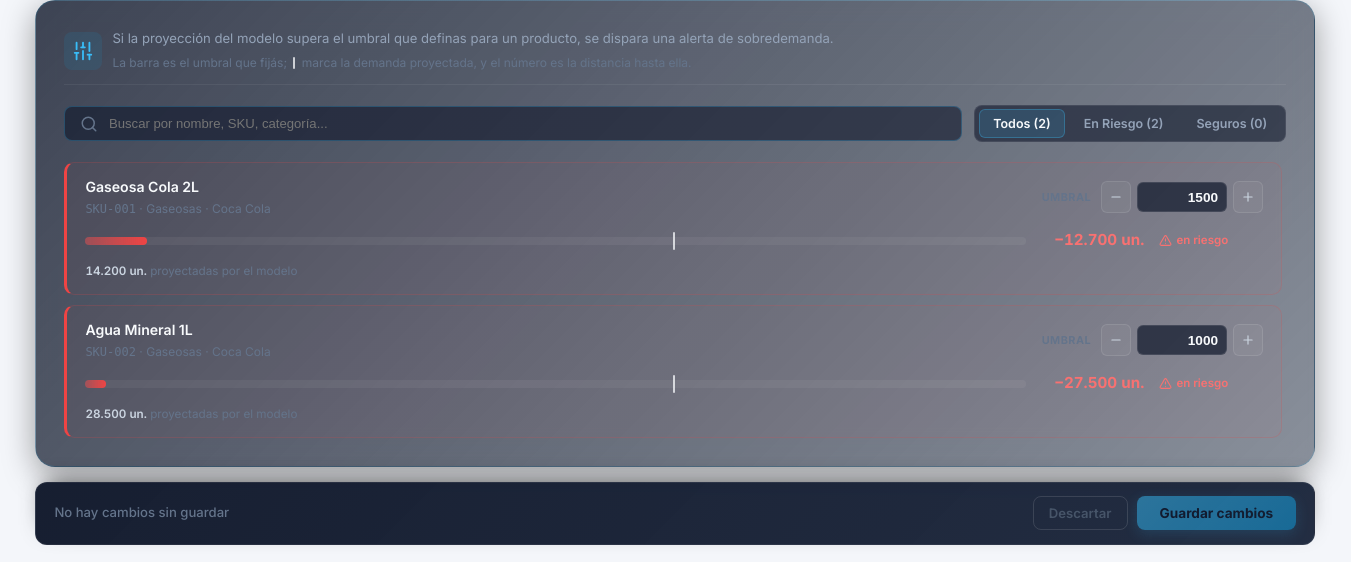
Test: SettingsView › boton de limpiar busqueda › limpia el termino de busqueda y restaura el listado completo
expect the text "Gaseosa Cola 2L" is shown: met, box x1=85 y1=178 x2=199 y2=195
Type "Agua" into the field with placeholder "Buscar por nombre, SKU, categoría...".
click(513, 124); type("Agua")  # box x1=64 y1=106 x2=962 y2=141
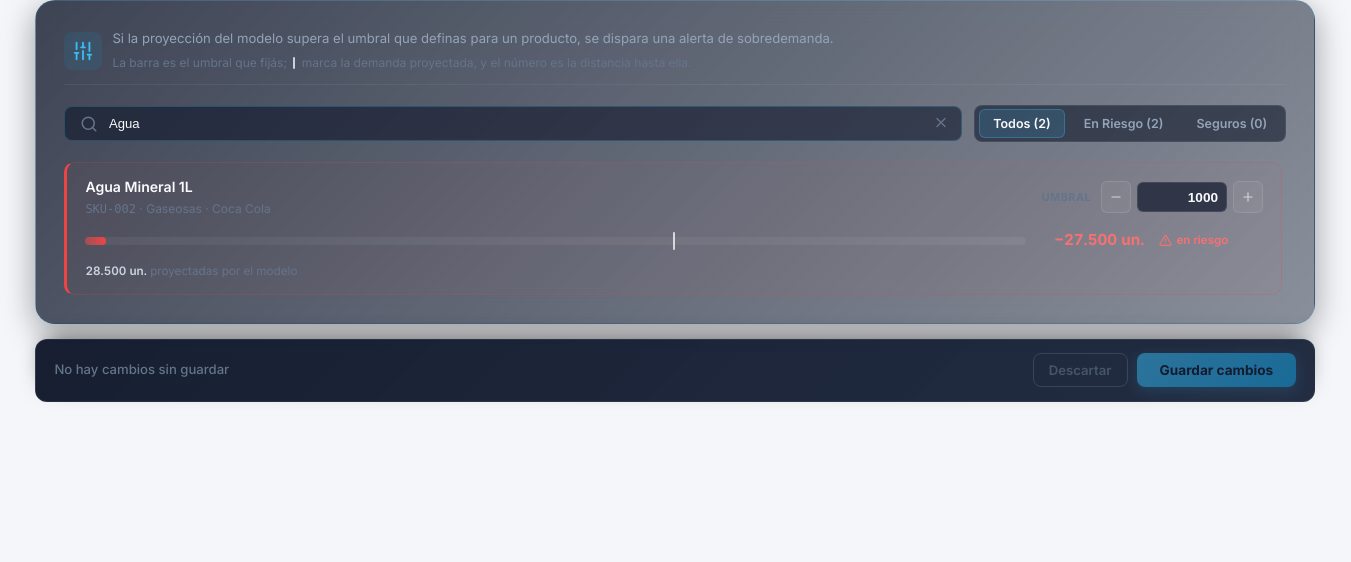
expect the text "Gaseosa Cola 2L" is gone: met
Click the button with class "lucide-x".
click(941, 124)  # box x1=933 y1=114 x2=949 y2=133
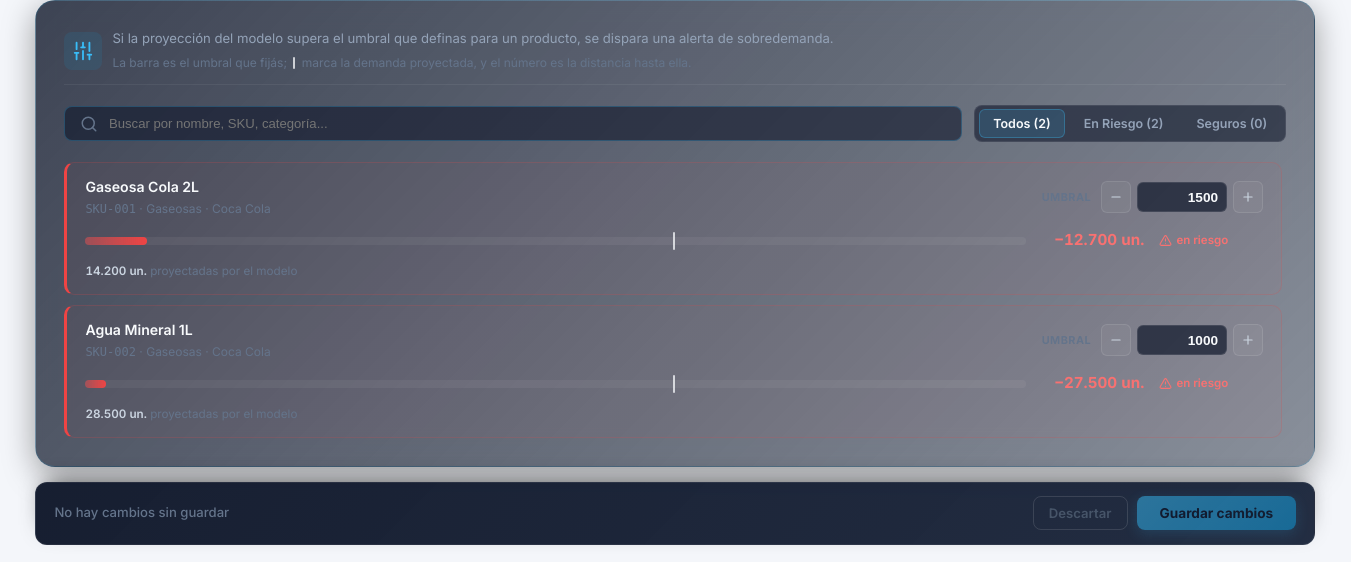
expect the field with placeholder "Buscar por nombre, SKU, categoría..." is empty: met, box x1=64 y1=106 x2=962 y2=141
expect the text "Gaseosa Cola 2L" is shown: met, box x1=85 y1=178 x2=199 y2=195
